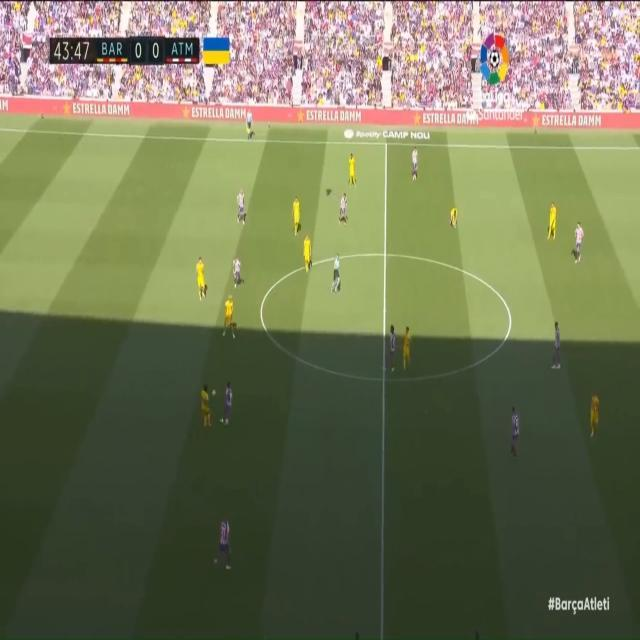ball: (210, 386, 217, 397)
player: (213, 512, 235, 576), (388, 321, 405, 374), (195, 379, 211, 433), (509, 404, 523, 462), (405, 318, 420, 371), (550, 321, 565, 373), (196, 252, 211, 303), (222, 291, 237, 341), (219, 379, 234, 426), (575, 217, 589, 266), (588, 391, 602, 439), (232, 245, 248, 285), (290, 191, 303, 237), (549, 199, 562, 245), (233, 181, 246, 224), (302, 231, 314, 274), (335, 187, 347, 225), (348, 151, 359, 189), (408, 145, 418, 182), (448, 200, 459, 232)
referee: (328, 250, 344, 296), (245, 109, 254, 141)
